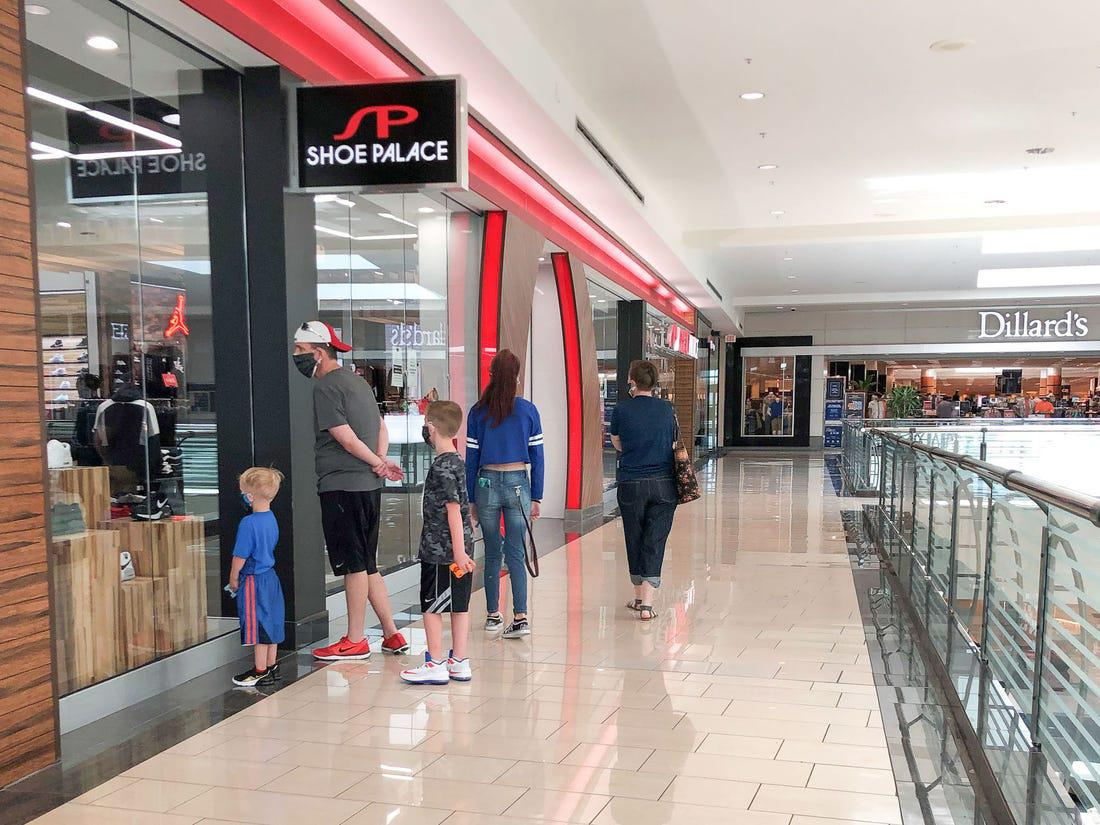Person: (291, 320, 410, 661), (608, 359, 701, 623), (465, 349, 547, 640), (400, 398, 477, 688), (228, 465, 286, 689)
